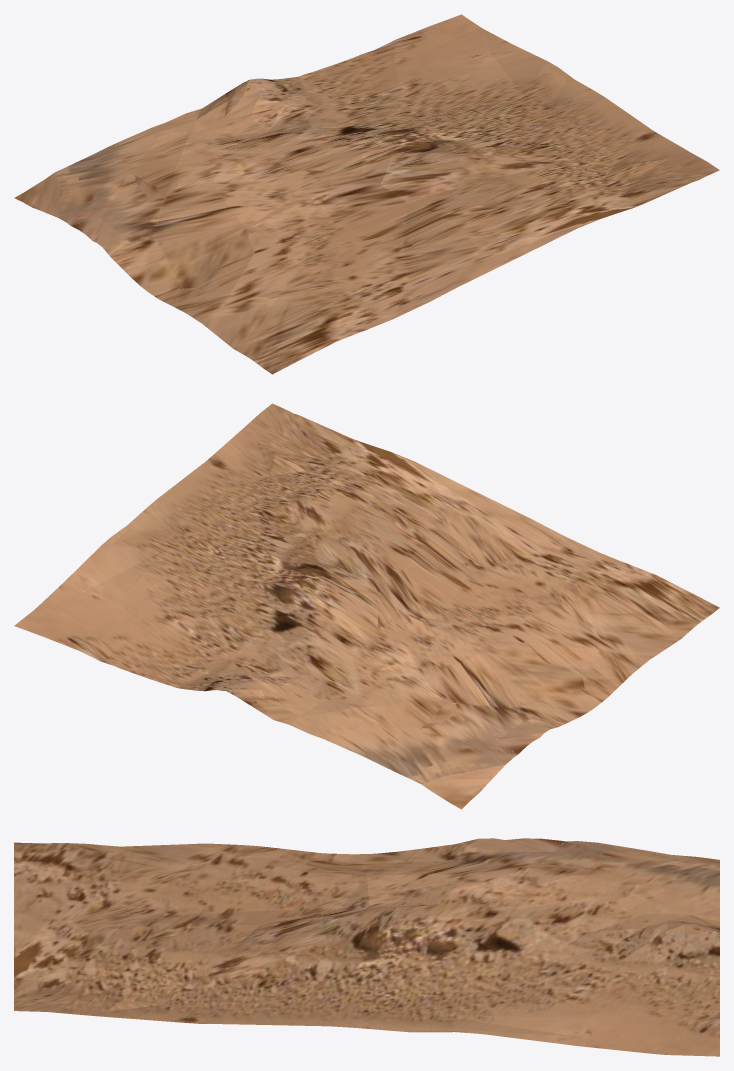
3 renders of one model, top to bottom at view 1: azimuth 30°, elevation 25°; view 2: azimuth 150°, elevation 25°; view 3: azimuth 270°, elevation 25°, orthographic. The views are drawn at different scales.
Bounding box in the file's own units: 1.04 × 0.2403 × 1.04.
Materials: 2 (2 with a texture image).
